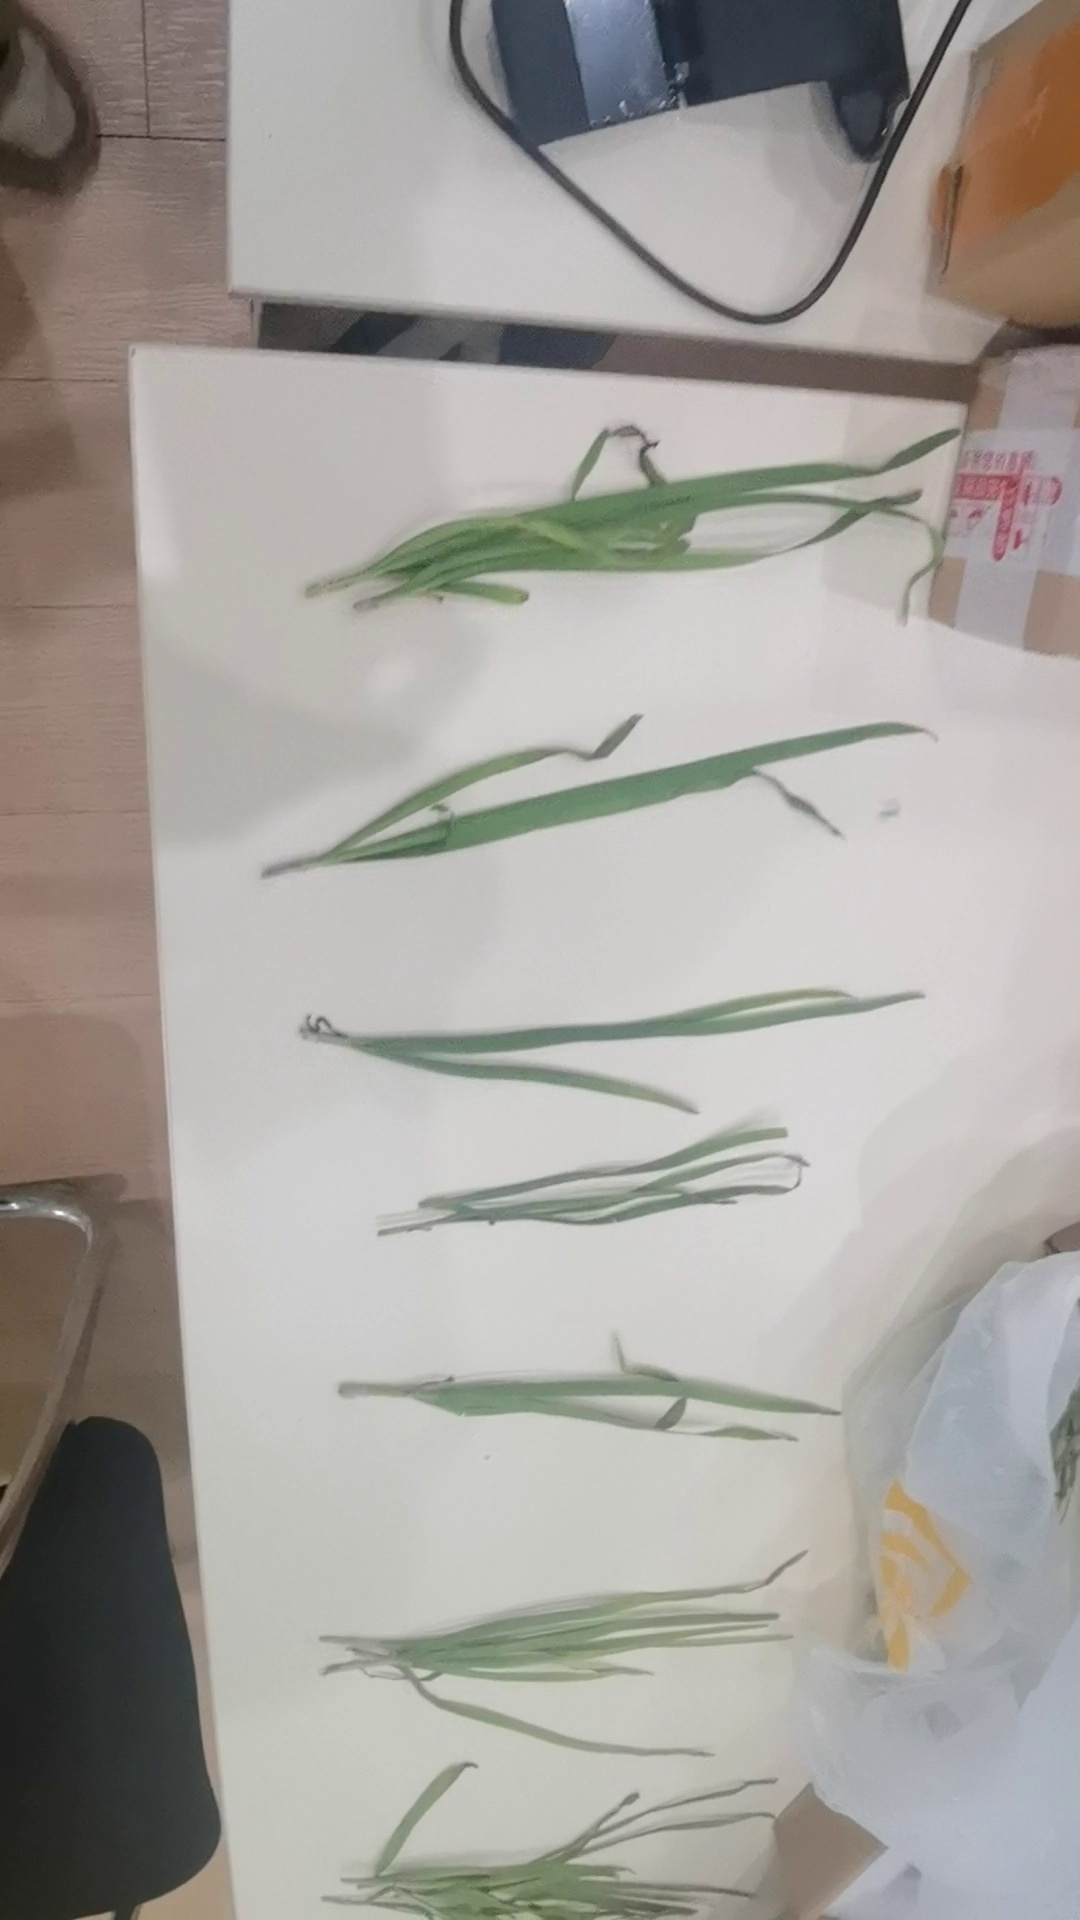chives: (316, 400, 973, 640), (233, 700, 951, 894), (294, 1567, 876, 1762), (257, 972, 967, 1104), (318, 1770, 906, 1920), (324, 1341, 894, 1447), (351, 1129, 872, 1244)
